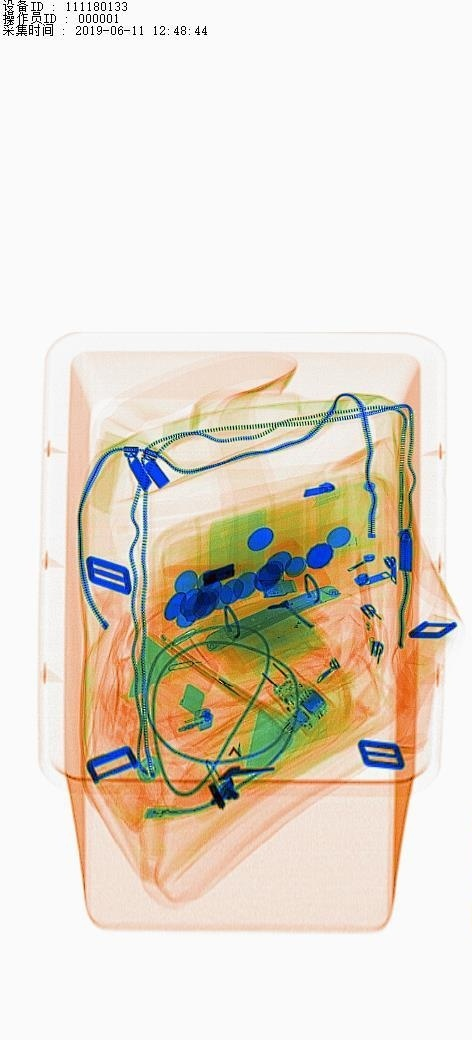NonmetallicFire: (130, 700, 222, 748)
